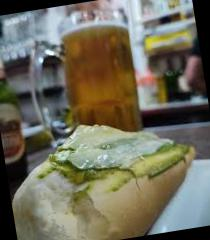Completos: (1, 105, 205, 240)
